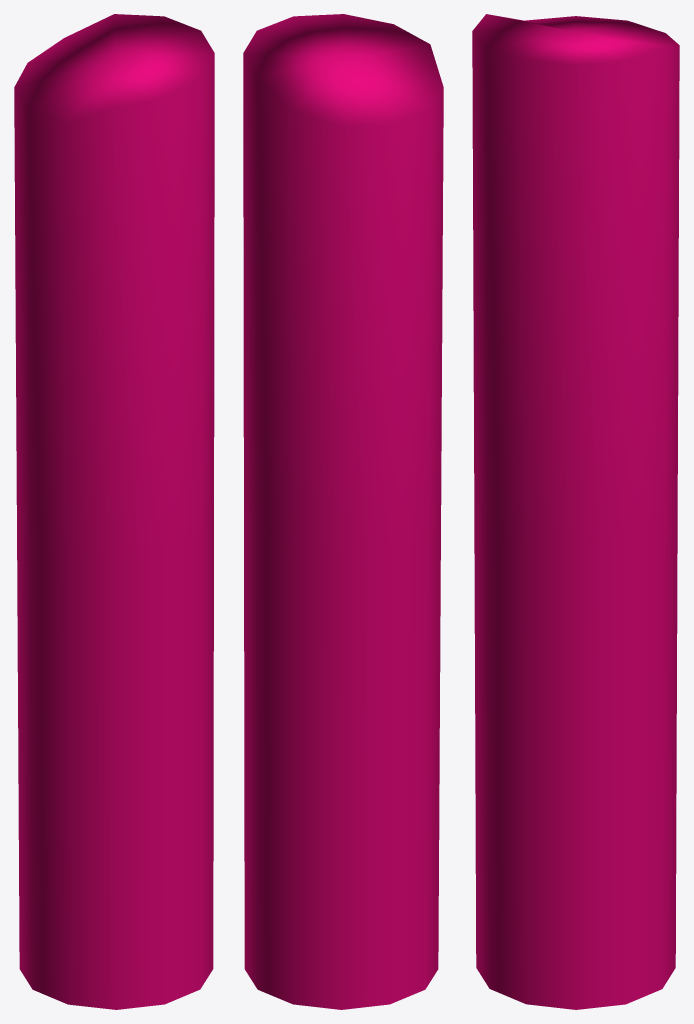
The model's file is Candle_03_Medium.fbx.
3 views of the same model, side by side, from view 1: azimuth 30°, elevation 25°; view 2: azimuth 150°, elevation 25°; view 3: azimuth 270°, elevation 25° (orthographic). The views are drawn at different scales.
Parts seen in each view (by area): view 1: Candle_03_Medium; view 2: Candle_03_Medium; view 3: Candle_03_Medium.
Part boxes in pixels (left/top/right/bottom): Candle_03_Medium: left=14, top=14, right=214, bottom=1009; Candle_03_Medium: left=243, top=14, right=443, bottom=1009; Candle_03_Medium: left=472, top=14, right=679, bottom=1009.
Bounding box in the file's own units: 14.6 × 73.86 × 14.68.
